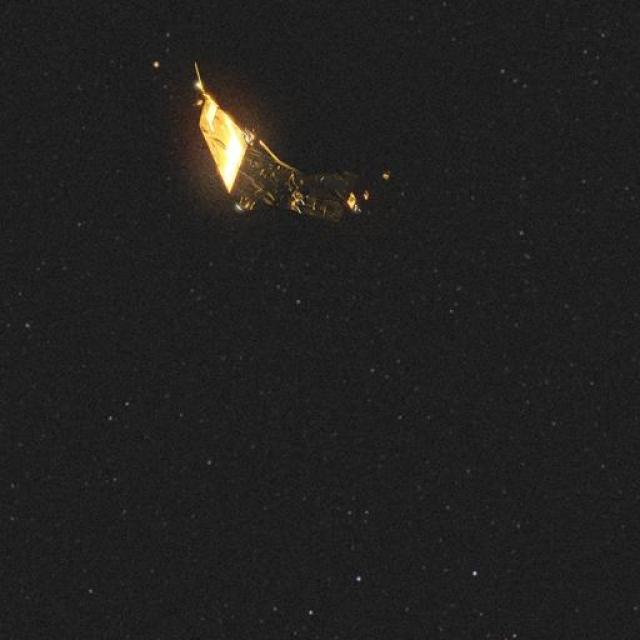lisa_pathfinder: (126, 39, 429, 250)
